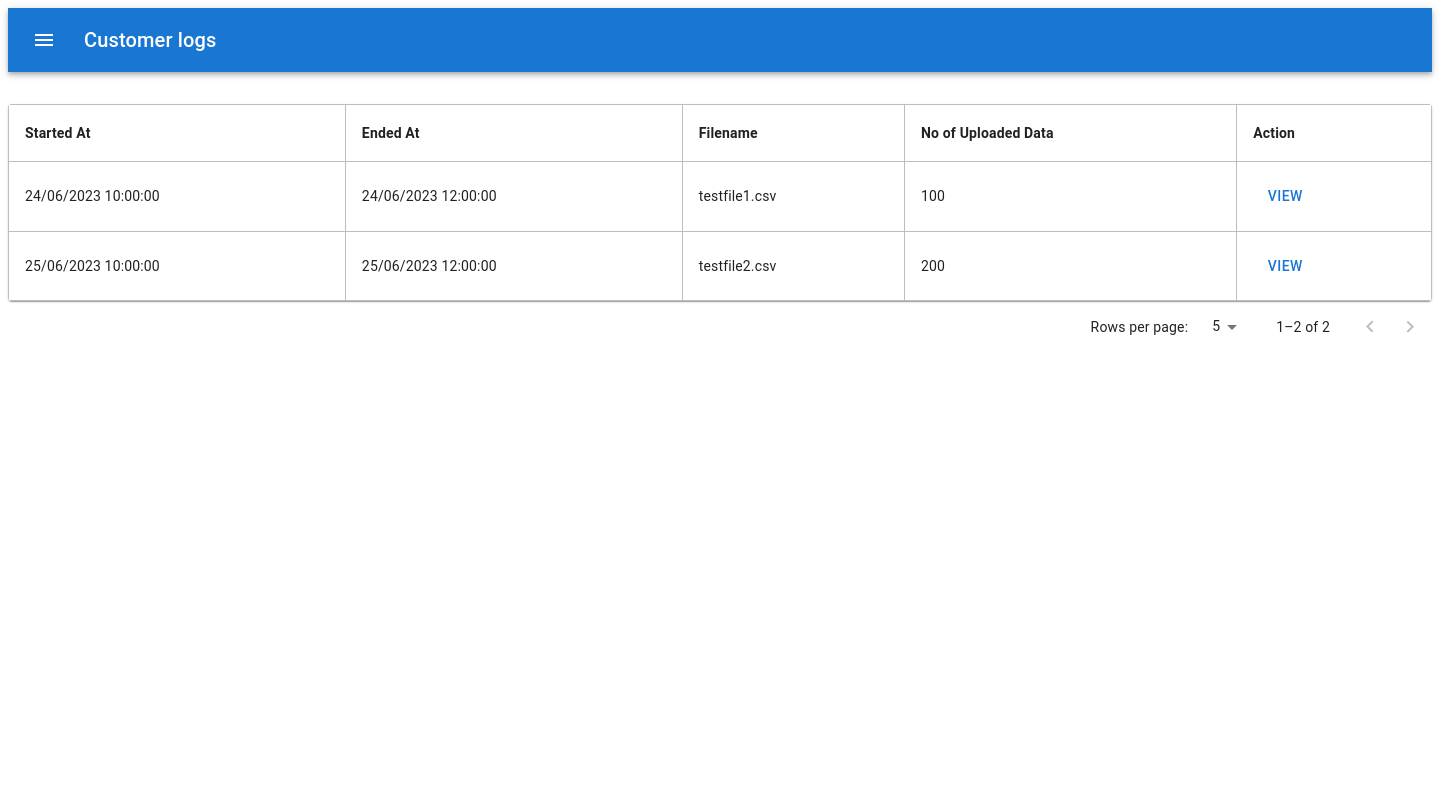
Test: BulkListing Component › displays error data on 'View' button click
The image size is (1440, 810).
Expected: the text "testfile1.csv" is shown, [682,162,904,231]
Step 1. Click the button "View" in the row of "24/06/2023 10:00:00" → (1285, 196), box [1253,178,1317,214]
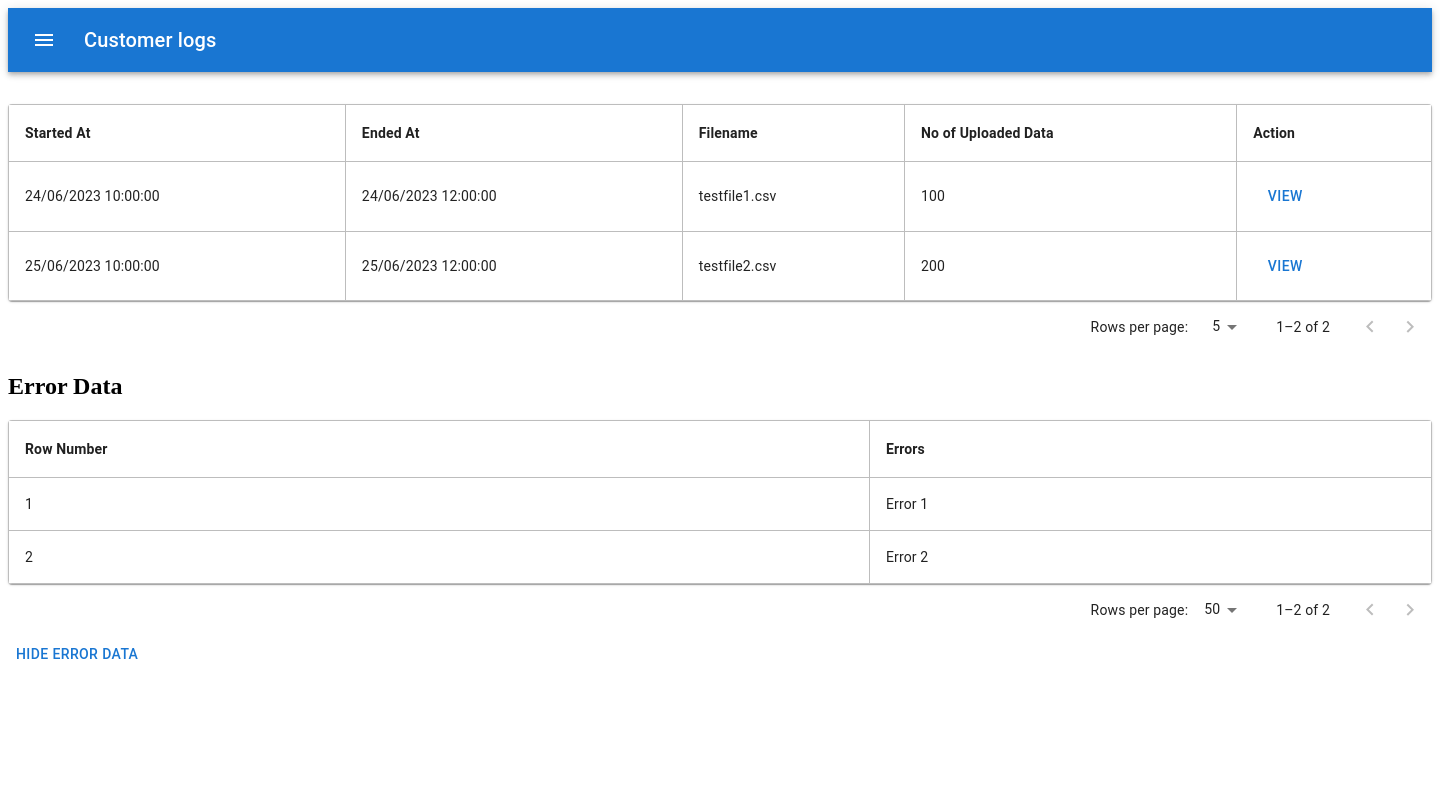
Result: the heading "Error Data" is shown at [8,373,122,399]
Result: the text "Error 1" is shown at [869,477,1432,530]
Result: the text "Error 2" is shown at [869,530,1432,583]
